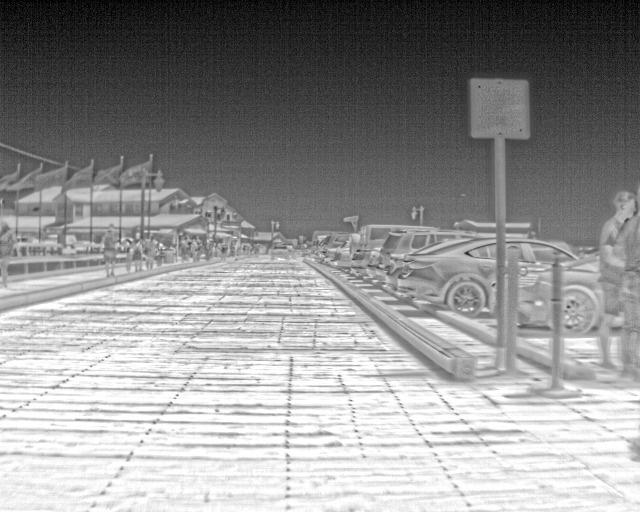bicycle: (410, 239, 495, 310), (379, 229, 477, 289), (348, 222, 440, 277), (385, 239, 462, 293), (562, 252, 602, 334), (515, 261, 547, 330), (511, 237, 577, 267), (320, 232, 349, 261), (366, 249, 388, 284), (396, 261, 415, 297), (266, 243, 292, 262), (332, 241, 348, 269)
empty: (597, 187, 639, 364), (615, 212, 639, 383), (98, 224, 119, 278), (0, 219, 16, 288), (143, 234, 158, 271), (130, 237, 144, 271), (192, 234, 205, 260), (122, 248, 134, 275)
